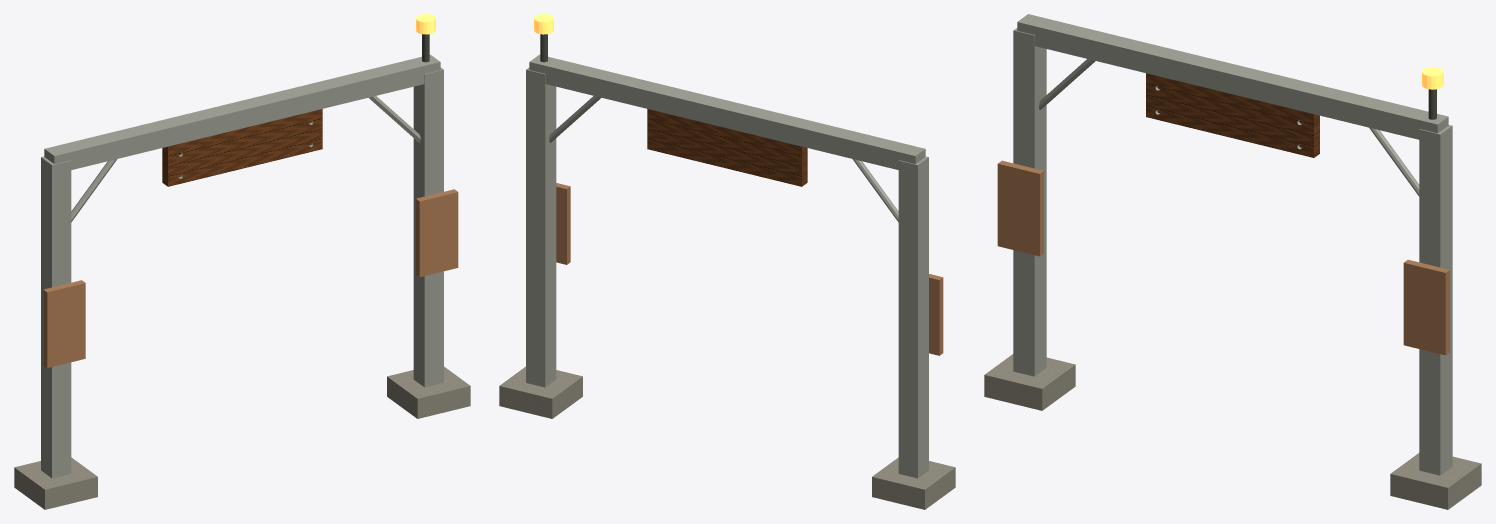
File: reclamation-yard-salvage-compound-gate__218.glb
The picture shows the model from 3 angles, left to right: view 1: azimuth 30°, elevation 25°; view 2: azimuth 150°, elevation 25°; view 3: azimuth 330°, elevation 25°; orthographic projection. The views are drawn at different scales.
Visible parts, largest first — view 1: metal, accent, wood, stone; view 2: metal, wood, stone, accent; view 3: metal, accent, wood, stone.
Part boxes in pixels (x1,y1,x2,y2): metal: (41,54,443,478); accent: (43,189,458,367); wood: (162,109,322,186); stone: (14,366,470,509); metal: (526,54,928,478); wood: (647,109,807,186); stone: (499,366,955,509); accent: (556,183,943,355); metal: (1013,14,1452,475); accent: (997,160,1449,355); wood: (1146,73,1319,157); stone: (984,354,1481,509).
Size of the model in its own units: 4.41 by 3.8 by 0.55.
6 materials, 2 textured.
